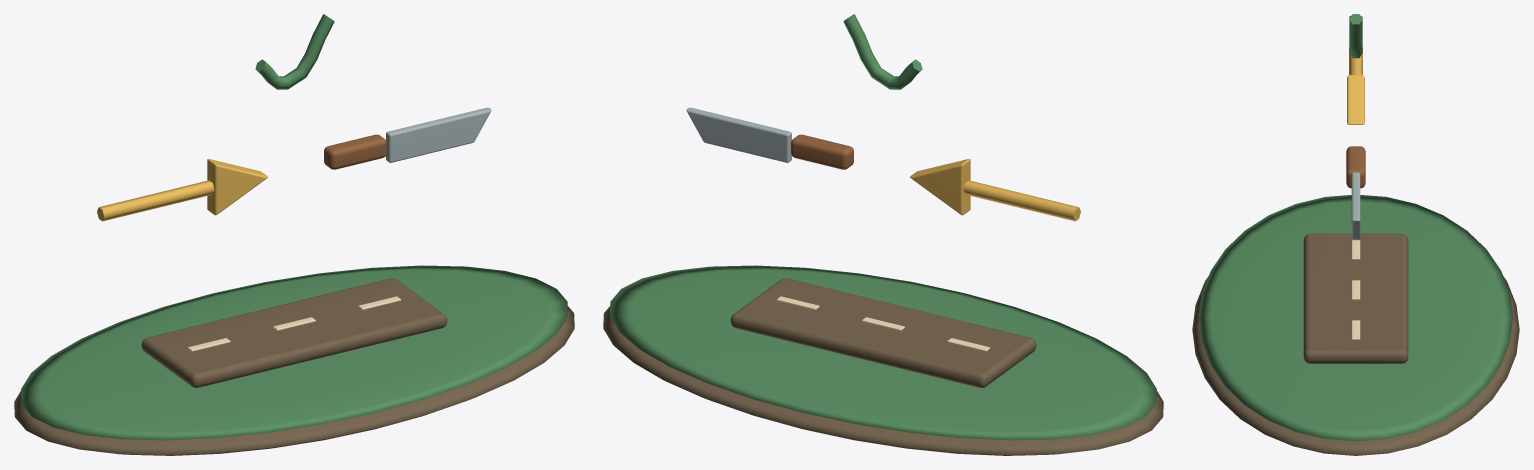
The model's file is complete-first-arrival-cutoff.glb.
3 views of the same model, side by side, from view 1: azimuth 30°, elevation 25°; view 2: azimuth 150°, elevation 25°; view 3: azimuth 270°, elevation 25° (orthographic). The views are drawn at different scales.
Parts seen in each view (by area): view 1: complete-first-arrival-cutoff_surface_01, complete-first-arrival-cutoff_surface_00, complete-first-arrival-cutoff_surface_02, complete-first-arrival-cutoff_surface_04, complete-first-arrival-cutoff_surface_03, complete-first-arrival-cutoff_surface_05; view 2: complete-first-arrival-cutoff_surface_01, complete-first-arrival-cutoff_surface_00, complete-first-arrival-cutoff_surface_02, complete-first-arrival-cutoff_surface_04, complete-first-arrival-cutoff_surface_03, complete-first-arrival-cutoff_surface_05; view 3: complete-first-arrival-cutoff_surface_01, complete-first-arrival-cutoff_surface_00, complete-first-arrival-cutoff_surface_02, complete-first-arrival-cutoff_surface_03, complete-first-arrival-cutoff_surface_04, complete-first-arrival-cutoff_surface_05.
Boxes of the visible parts, x1,y1,x2,y2 form: complete-first-arrival-cutoff_surface_01: (21, 14, 567, 440); complete-first-arrival-cutoff_surface_00: (14, 278, 574, 455); complete-first-arrival-cutoff_surface_02: (97, 159, 267, 221); complete-first-arrival-cutoff_surface_04: (386, 107, 491, 162); complete-first-arrival-cutoff_surface_03: (324, 134, 386, 169); complete-first-arrival-cutoff_surface_05: (187, 296, 401, 351); complete-first-arrival-cutoff_surface_01: (610, 14, 1156, 440); complete-first-arrival-cutoff_surface_00: (603, 278, 1163, 455); complete-first-arrival-cutoff_surface_02: (910, 159, 1080, 221); complete-first-arrival-cutoff_surface_04: (686, 107, 791, 162); complete-first-arrival-cutoff_surface_03: (791, 134, 853, 169); complete-first-arrival-cutoff_surface_05: (776, 296, 990, 351); complete-first-arrival-cutoff_surface_01: (1199, 14, 1512, 441); complete-first-arrival-cutoff_surface_00: (1192, 233, 1519, 455); complete-first-arrival-cutoff_surface_02: (1347, 47, 1364, 124); complete-first-arrival-cutoff_surface_03: (1346, 146, 1365, 188); complete-first-arrival-cutoff_surface_04: (1351, 172, 1360, 239); complete-first-arrival-cutoff_surface_05: (1351, 240, 1360, 340).
Bounding box in the file's own units: 4.56 × 2.91 × 2.5.
